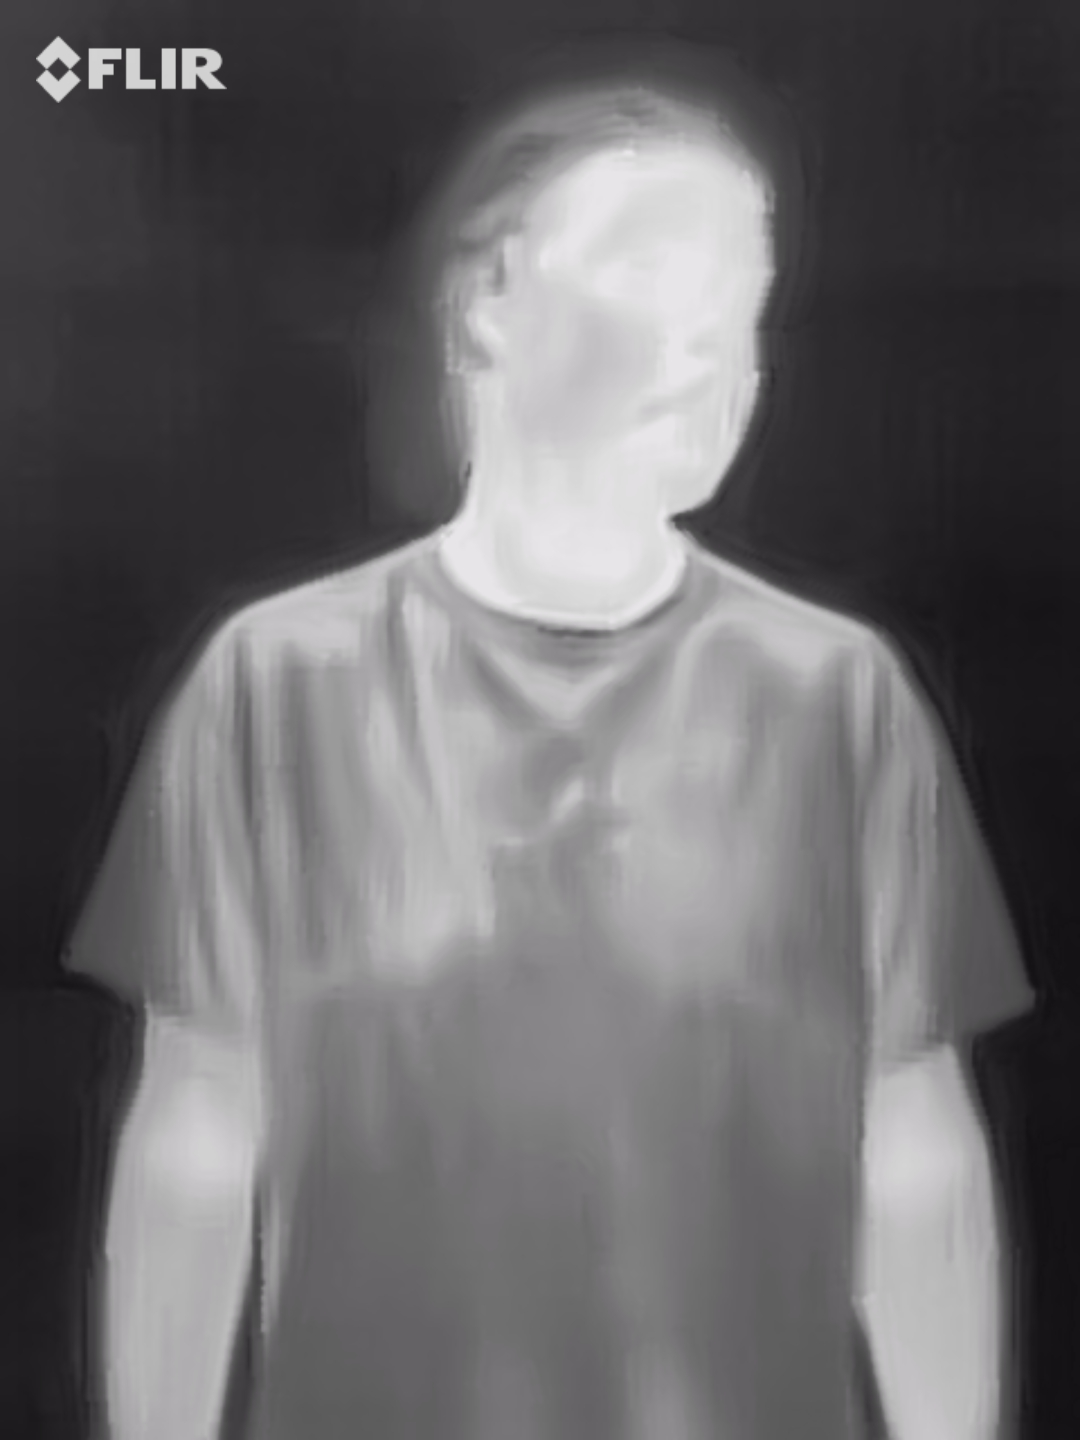head: (423, 84, 780, 528)
